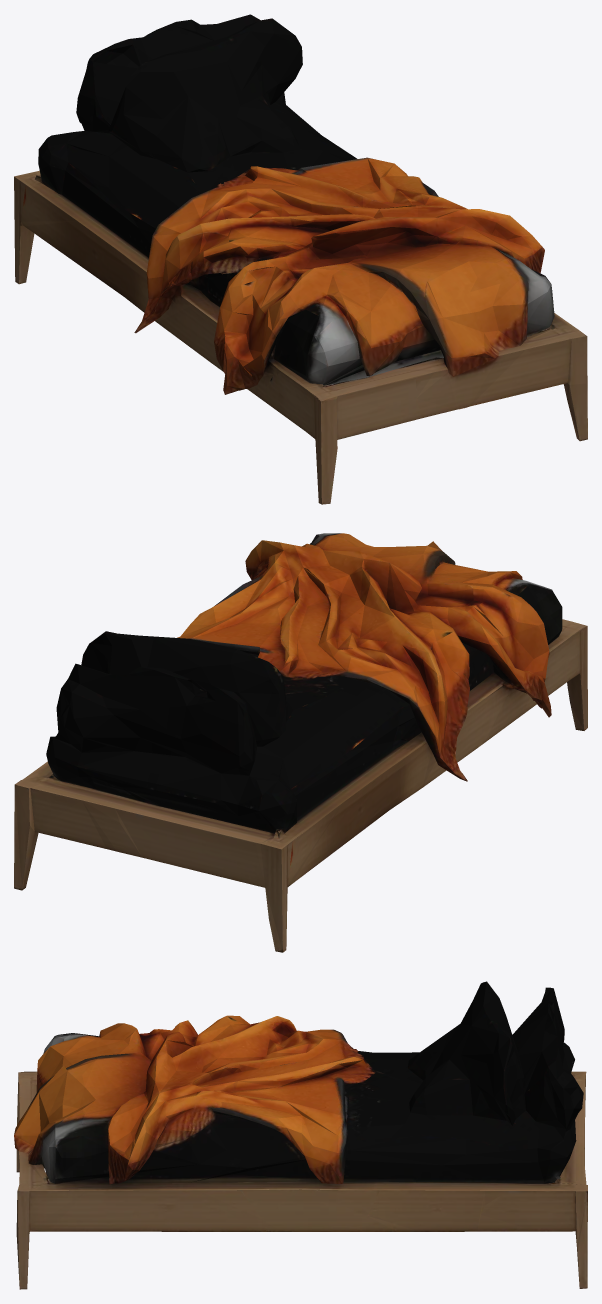
The model's file is bed3.glb.
3 renders of one model, top to bottom at view 1: azimuth 30°, elevation 25°; view 2: azimuth 150°, elevation 25°; view 3: azimuth 270°, elevation 25°, orthographic. The views are drawn at different scales.
Visible parts, largest first — view 1: world; view 2: world; view 3: world.
Boxes of the visible parts, x1,y1,x2,y2 form: world: (14,14,587,504); world: (14,533,587,952); world: (14,981,587,1289).
Size of the model in its own units: 0.5872 by 0.4275 by 0.9957.
Materials: 1 (1 with a texture image).
